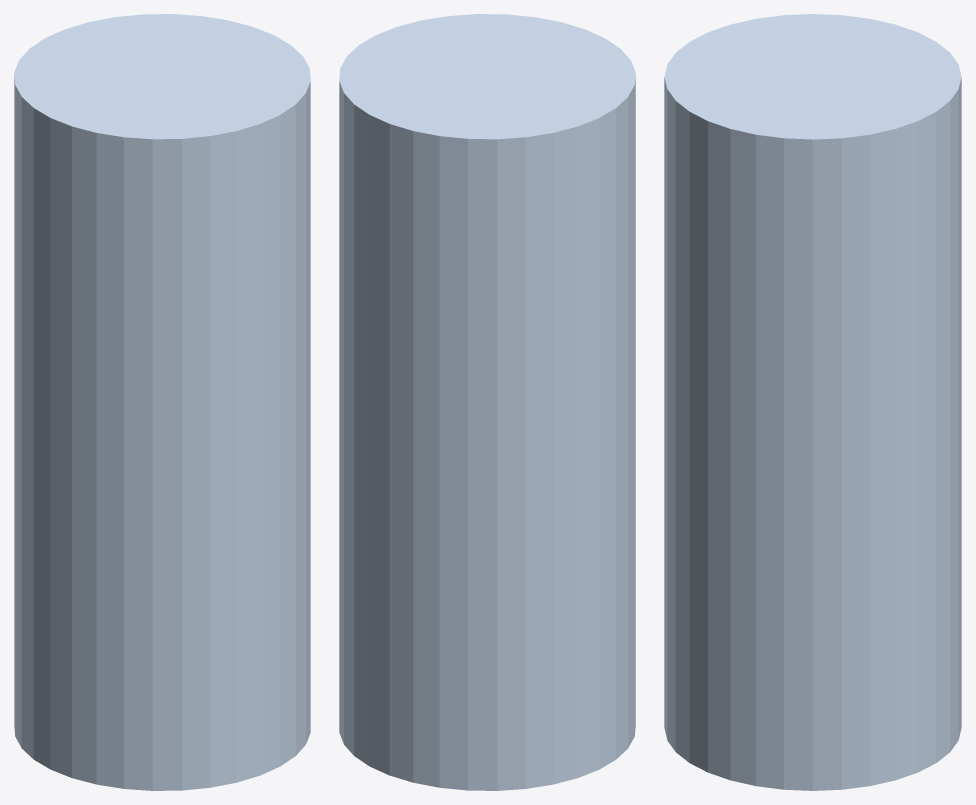
File: WindColumn.glb
The picture shows the model from 3 angles, left to right: view 1: azimuth 30°, elevation 25°; view 2: azimuth 150°, elevation 25°; view 3: azimuth 270°, elevation 25°; orthographic projection.
Parts seen in each view (by area): view 1: WindColumn; view 2: WindColumn; view 3: WindColumn.
Part boxes in pixels (box(x1,y1,x2,y2)): WindColumn: box(14, 14, 310, 790); WindColumn: box(339, 14, 635, 790); WindColumn: box(664, 14, 961, 790).
Size of the model in its own units: 5.79 by 14.01 by 5.79.
